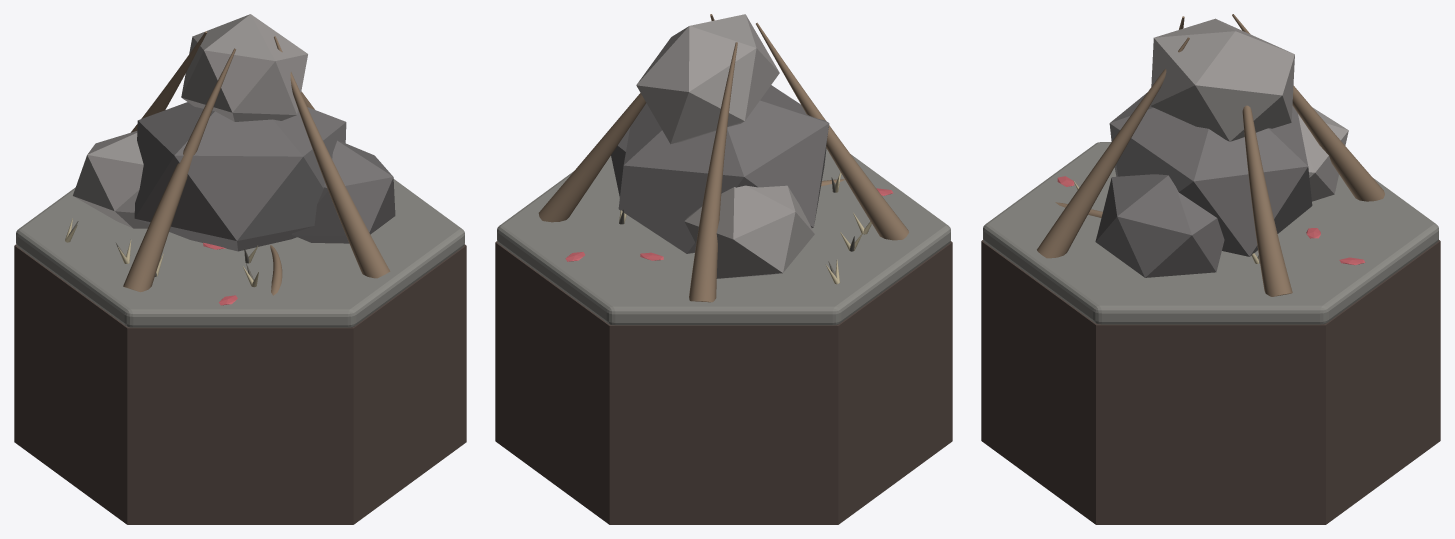
File: hex_crownstone.glb
3 views of the same model, side by side, from view 1: azimuth 30°, elevation 25°; view 2: azimuth 150°, elevation 25°; view 3: azimuth 270°, elevation 25° (orthographic).
Visible parts, largest first — view 1: hex_crownstone; view 2: hex_crownstone; view 3: hex_crownstone.
Boxes of the visible parts, box(x1,y1,x2,y2) form: hex_crownstone: box(14, 14, 466, 524); hex_crownstone: box(495, 14, 952, 524); hex_crownstone: box(981, 14, 1440, 524).
Bounding box in the file's own units: 1.7 × 1.98 × 1.96.
